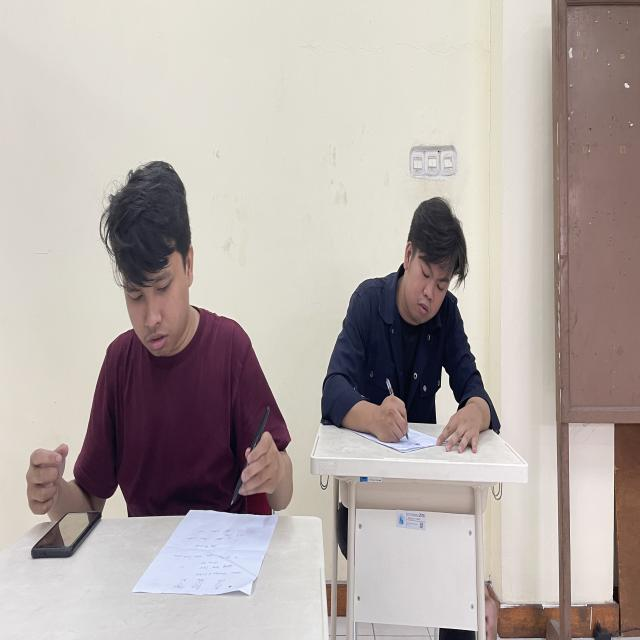non-cheating: (17, 452, 113, 613)
